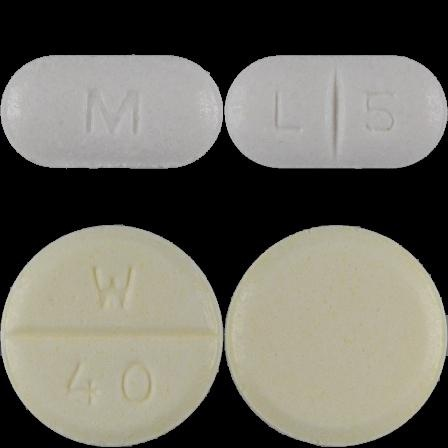54868-2131: (0, 0, 224, 224)
